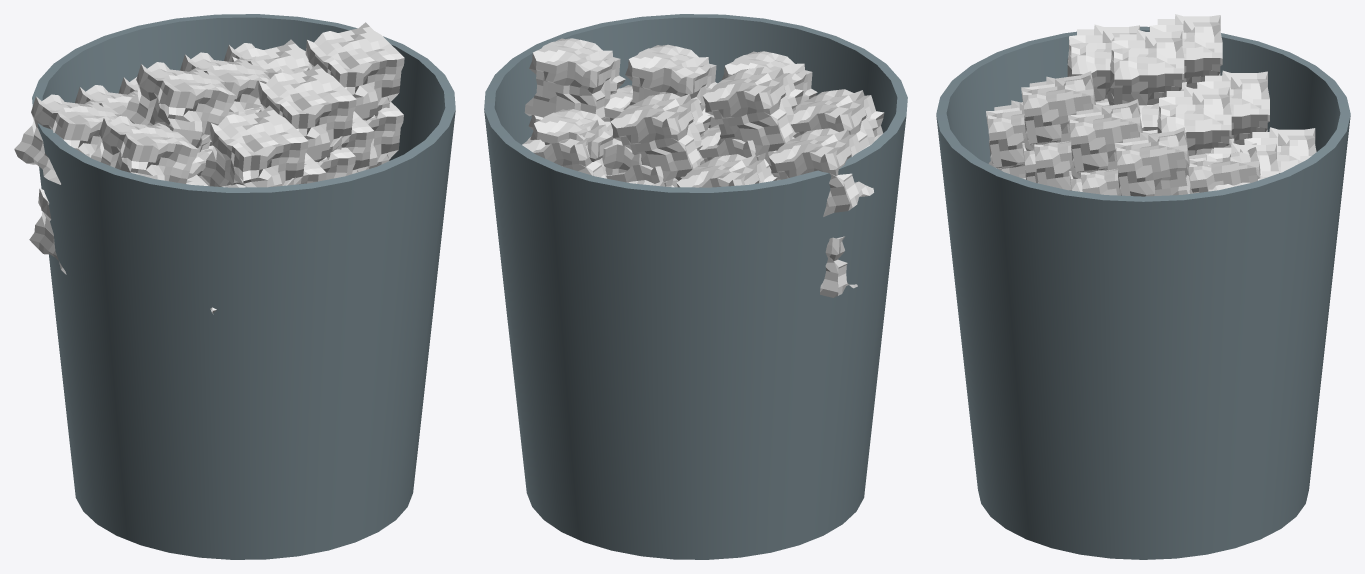
Rendered from trashcan_03.glb.
The picture shows the model from 3 angles, left to right: view 1: azimuth 30°, elevation 25°; view 2: azimuth 150°, elevation 25°; view 3: azimuth 270°, elevation 25°; orthographic projection. The views are drawn at different scales.
Visible parts, largest first — view 1: Cylinder.120; view 2: Cylinder.120; view 3: Cylinder.120.
Part boxes in pixels (x1,y1,x2,y2): Cylinder.120: (14,14,455,559); Cylinder.120: (484,14,907,559); Cylinder.120: (936,14,1350,559).
Size of the model in its own units: 0.364 by 0.3985 by 0.3561.
